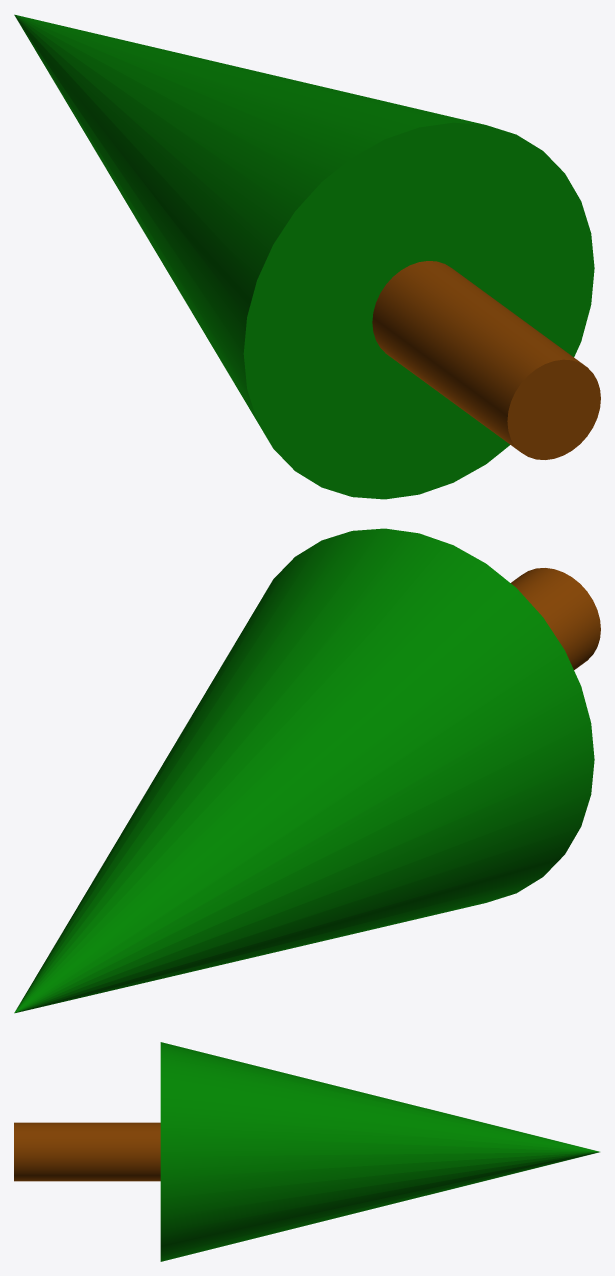
The model's file is pinetree.obj.
3 views of the same model, one above another, from view 1: azimuth 30°, elevation 25°; view 2: azimuth 150°, elevation 25°; view 3: azimuth 270°, elevation 25° (orthographic). The views are drawn at different scales.
Visible parts, largest first — view 1: Cone, Cylinder; view 2: Cone, Cylinder; view 3: Cone, Cylinder.
Part boxes in pixels (x1=…): Cone: x1=14, y1=14, x2=594, y2=499; Cylinder: x1=372, y1=261, x2=600, y2=459; Cone: x1=14, y1=528, x2=594, y2=1013; Cylinder: x1=511, y1=568, x2=600, y2=669; Cone: x1=160, y1=1042, x2=599, y2=1261; Cylinder: x1=14, y1=1122, x2=160, y2=1181.
Size of the model in its own units: 0.15 by 0.15 by 0.4.
